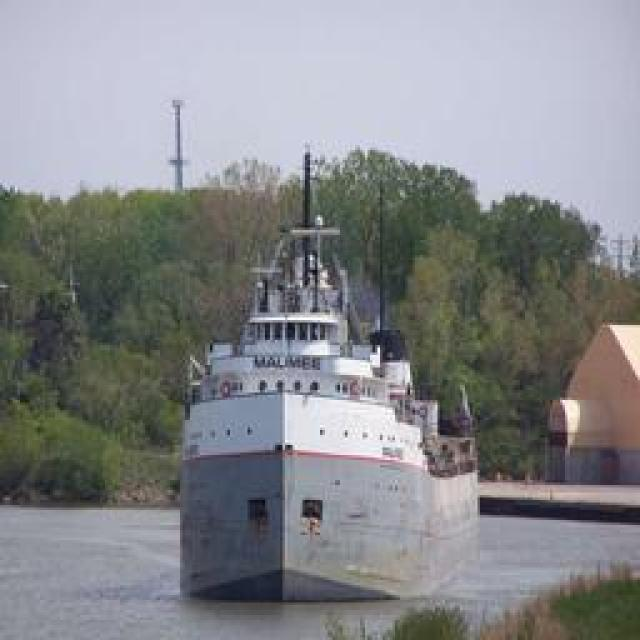CIV_Ship: (176, 146, 482, 599)
